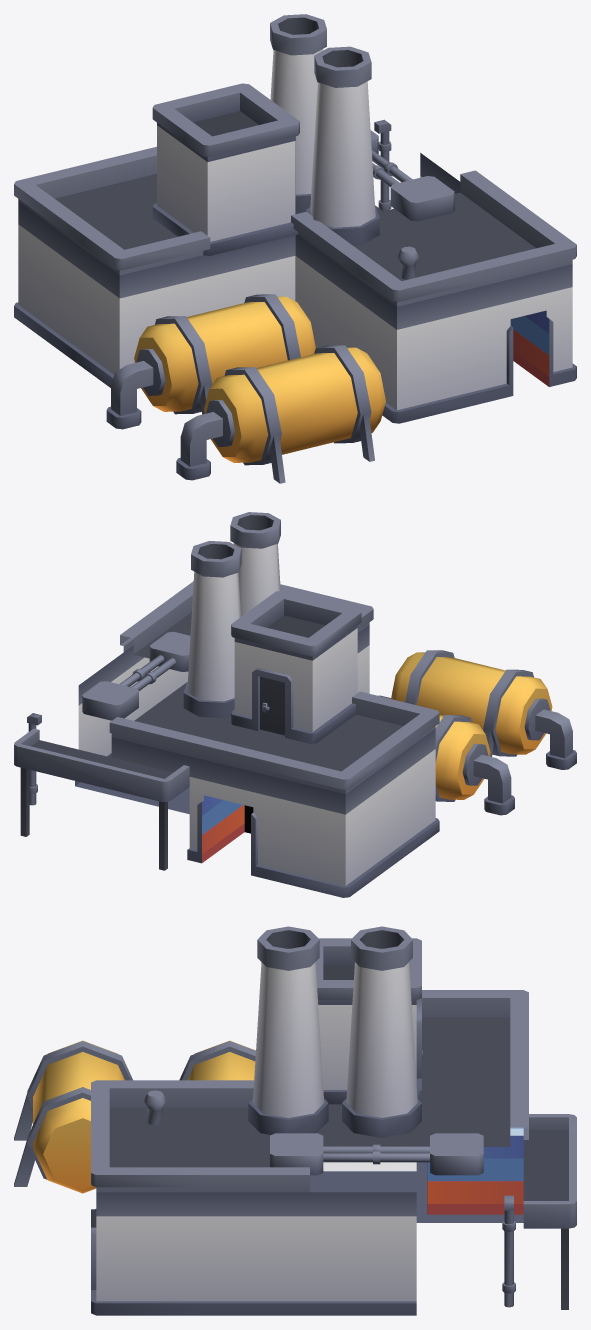
Rendered from building-c-enterable.glb.
3 renders of one model, top to bottom at view 1: azimuth 30°, elevation 25°; view 2: azimuth 150°, elevation 25°; view 3: azimuth 270°, elevation 25°, orthographic. The views are drawn at different scales.
Visible parts, largest first — view 1: building-c-enterable; view 2: building-c-enterable; view 3: building-c-enterable.
Part boxes in pixels (box(x1,y1,x2,y2)): building-c-enterable: box(14, 14, 576, 483); building-c-enterable: box(14, 512, 576, 897); building-c-enterable: box(14, 926, 576, 1315).
Bounding box in the file's own units: 1.88 × 1.25 × 2.11.
1 material, 1 textured.
